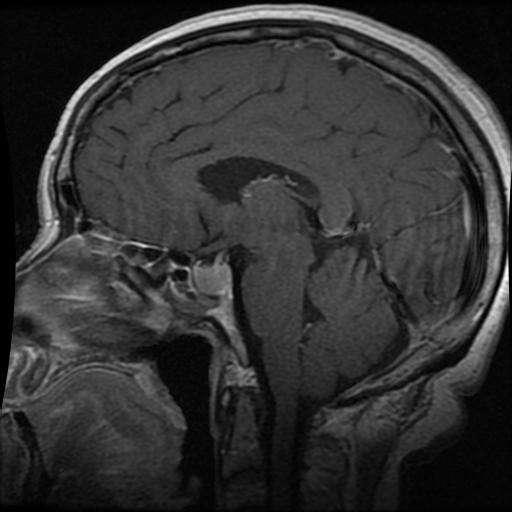Pituirity_tumour: (191, 255, 233, 294)
